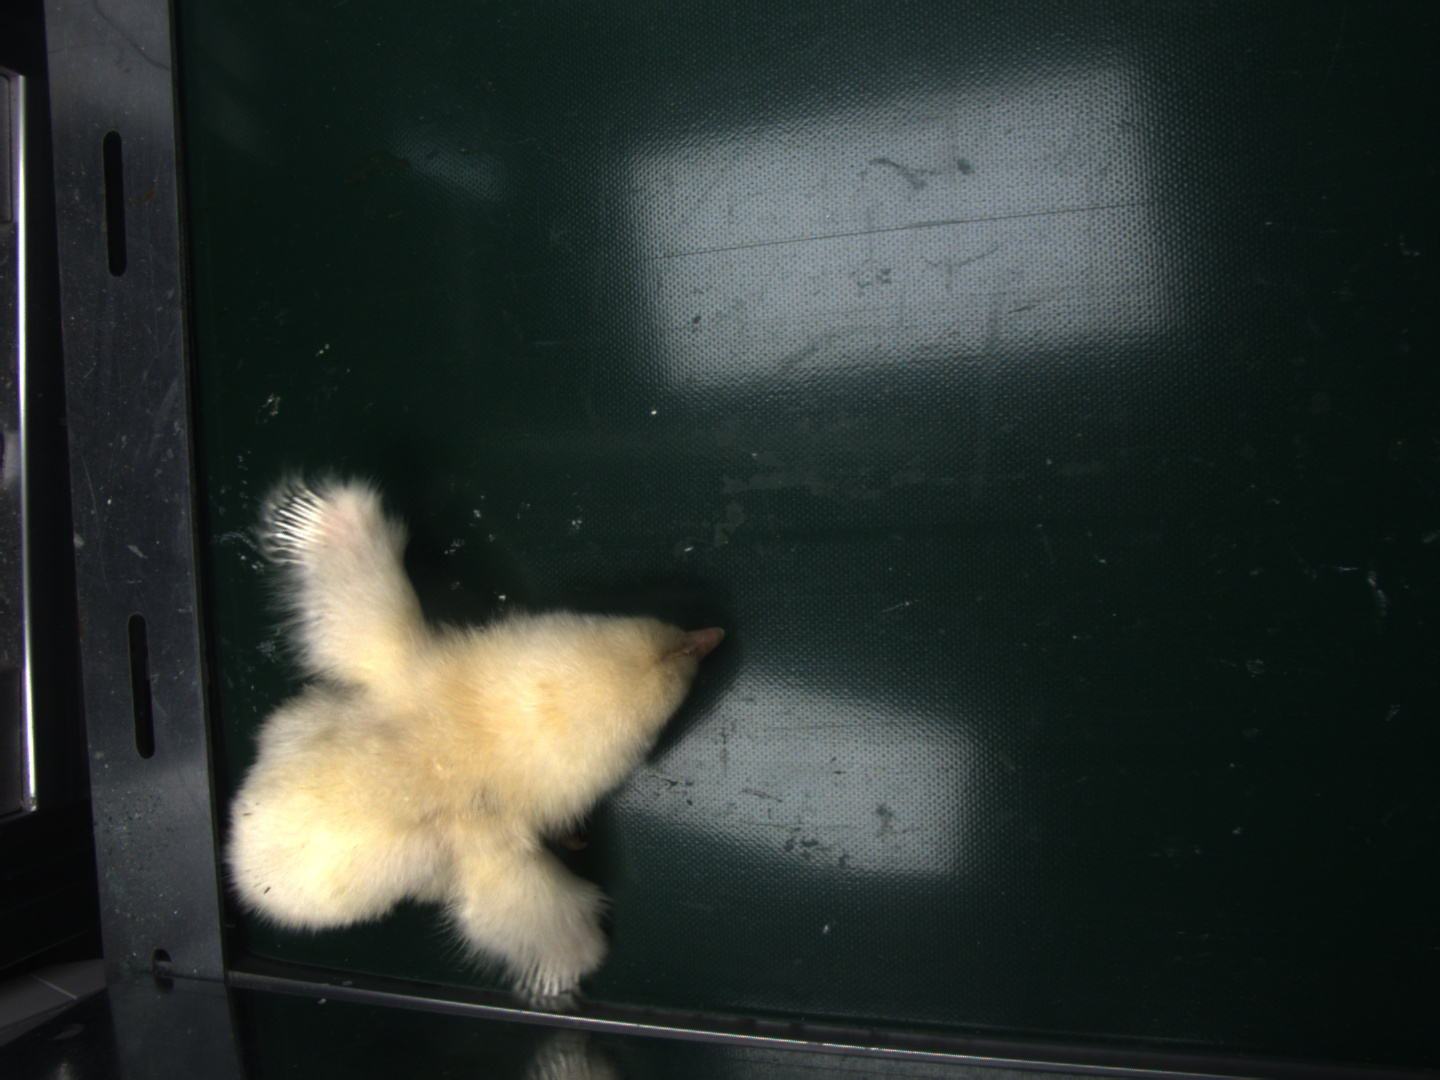male: (274, 490, 331, 560)
